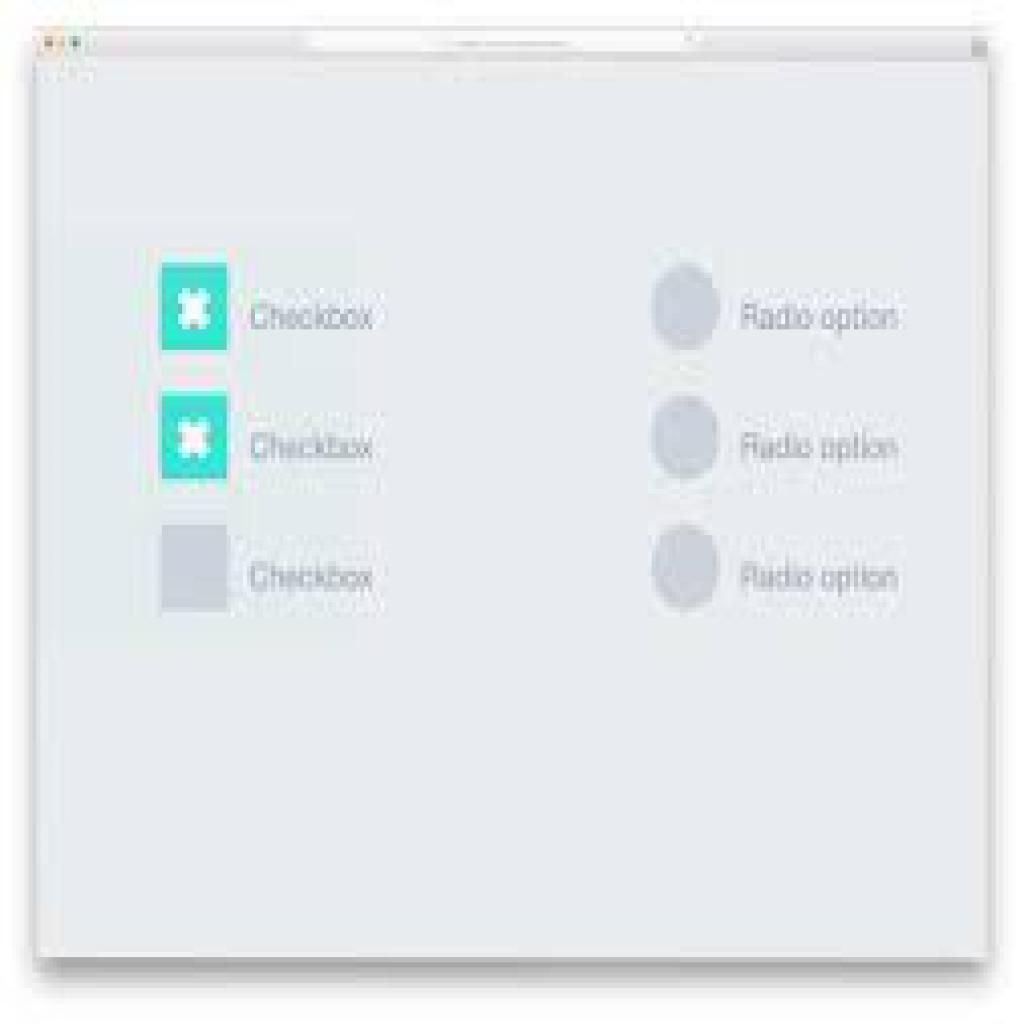checkbox: (162, 526, 232, 613), (160, 264, 227, 353), (162, 393, 229, 479)
radio: (647, 517, 728, 616), (651, 256, 725, 356), (650, 390, 721, 479)
